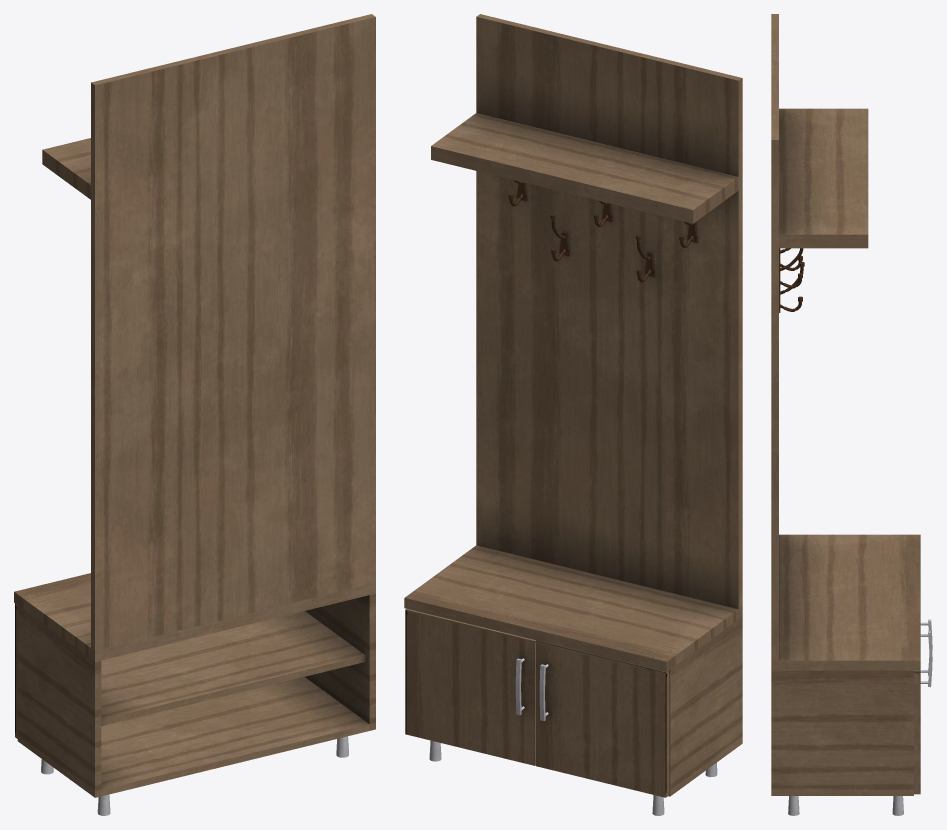
The model's file is hall_stand_web.glb.
3 renders of one model, left to right at view 1: azimuth 30°, elevation 25°; view 2: azimuth 150°, elevation 25°; view 3: azimuth 270°, elevation 25°, orthographic. The views are drawn at different scales.
Visible parts, largest first — view 1: HallStand_Body, Chrome_Hooks; view 2: HallStand_Body, Door_1_R_Mesh, Door_1_L_Mesh, Chrome_Hooks; view 3: HallStand_Body, Chrome_Hooks, Door_1_L_Mesh.
Part boxes in pixels (left/top/right/bottom): HallStand_Body: left=14, top=14, right=375, bottom=797; Chrome_Hooks: left=41, top=736, right=348, bottom=815; HallStand_Body: left=404, top=14, right=742, bottom=796; Door_1_R_Mesh: left=536, top=640, right=669, bottom=797; Door_1_L_Mesh: left=405, top=608, right=536, bottom=765; Chrome_Hooks: left=429, top=180, right=717, bottom=815; HallStand_Body: left=771, top=14, right=920, bottom=795; Chrome_Hooks: left=779, top=248, right=903, bottom=815; Door_1_L_Mesh: left=914, top=670, right=920, bottom=794.
Size of the model in its own units: 0.8 by 2.02 by 0.4319.
Materials: 3 (3 with a texture image).
